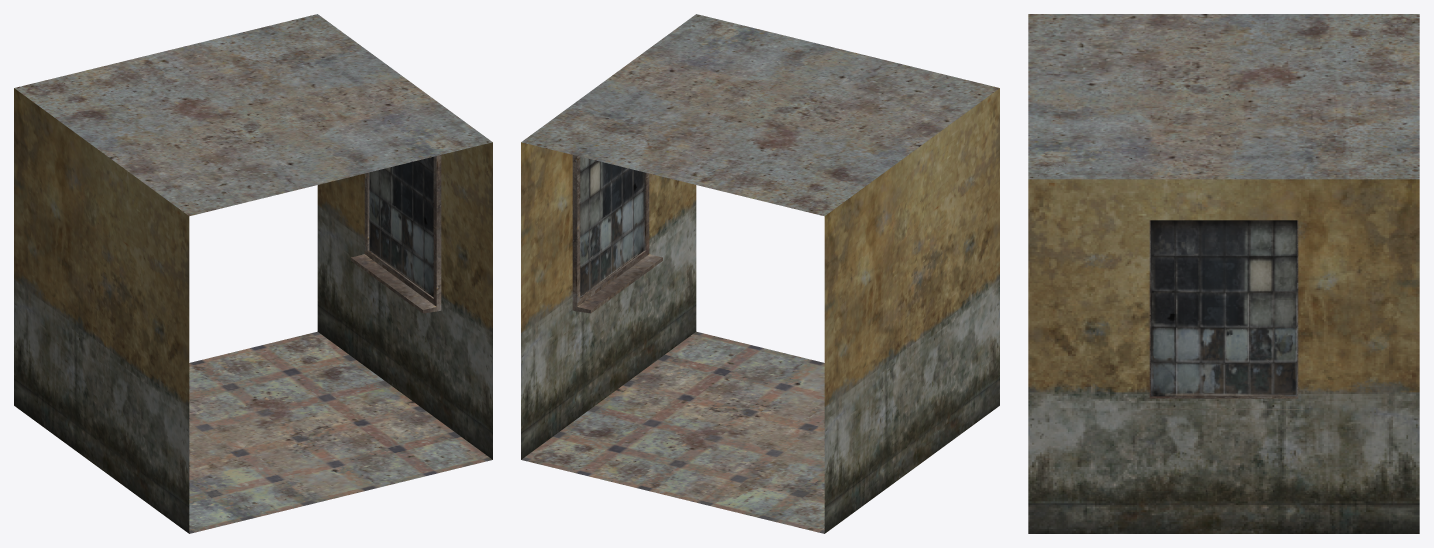
The model's file is _Corridor_part2.FBX.
The picture shows the model from 3 angles, left to right: view 1: azimuth 30°, elevation 25°; view 2: azimuth 150°, elevation 25°; view 3: azimuth 270°, elevation 25°; orthographic projection. The views are drawn at different scales.
Visible parts, largest first — view 1: Corridor_Part2; view 2: Corridor_Part2; view 3: Corridor_Part2.
Boxes of the visible parts, x1,y1,x2,y2 form: Corridor_Part2: (14,14,492,533); Corridor_Part2: (521,14,999,533); Corridor_Part2: (1028,14,1419,533).
Size of the model in its own units: 254 by 254 by 254.
Materials: 5 (5 with a texture image).
